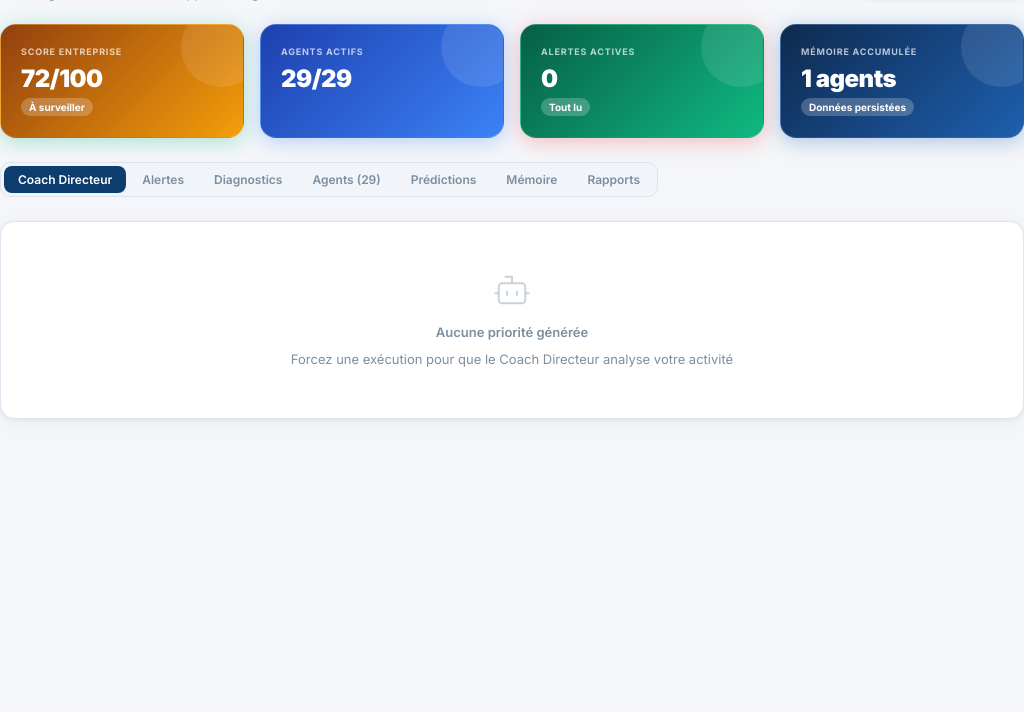
Test: SOUS-ONGLET AGENTS — 3 tiers + agents (map dé-violetée) › affiche les 3 tiers et des agents aux vrais noms
Click the button "Agents (29)".
click(347, 180)  # box [298, 166, 395, 193]
(page scrolled)
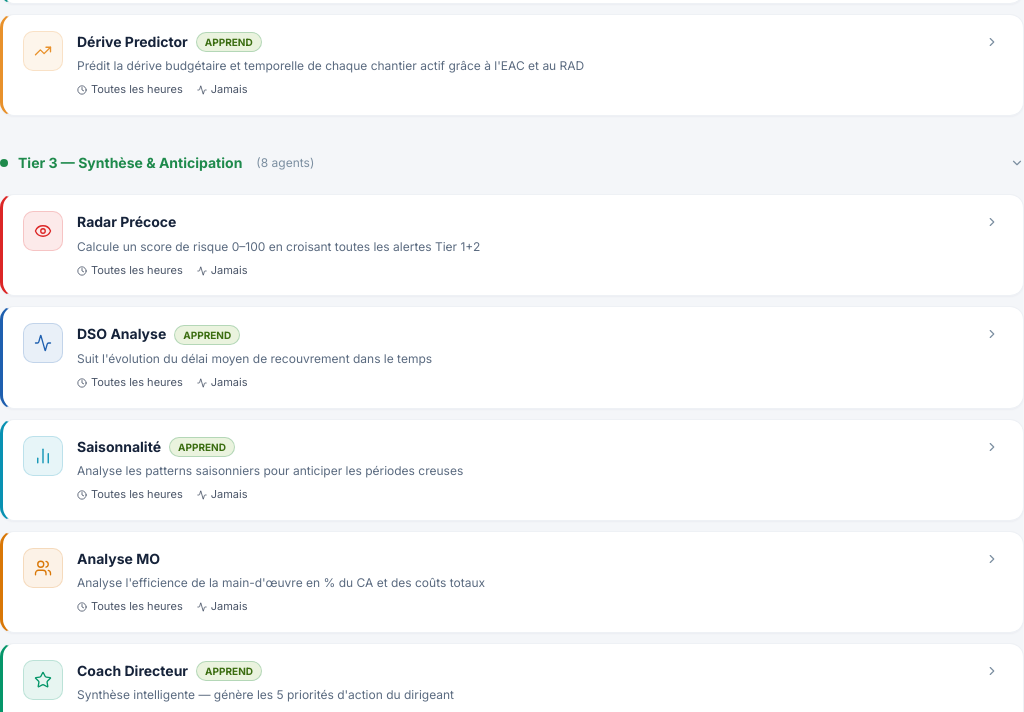
Expected: the text "Tier 3 — Synthèse & Anticipation" is shown, [18, 152, 242, 174]
Expected: the text "DSO Analyse" is shown, [77, 323, 166, 346]
